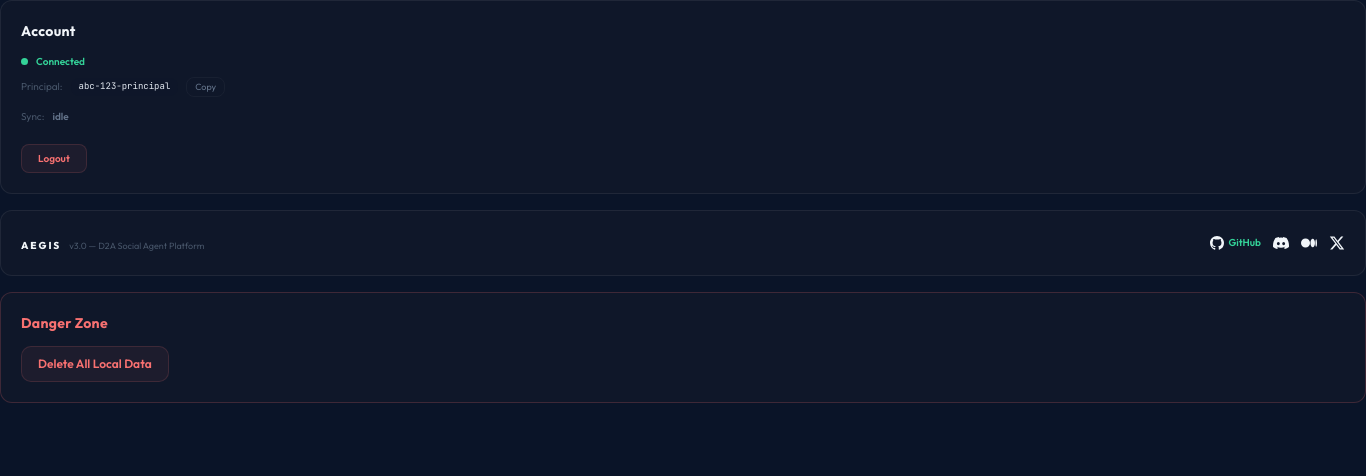
Scenario: AccountSection — Danger Zone delete flow › shows confirmation form when Delete button clicked
Click the button "Delete All Local Data". click: [95, 364]
box: 21,346 -> 169,382
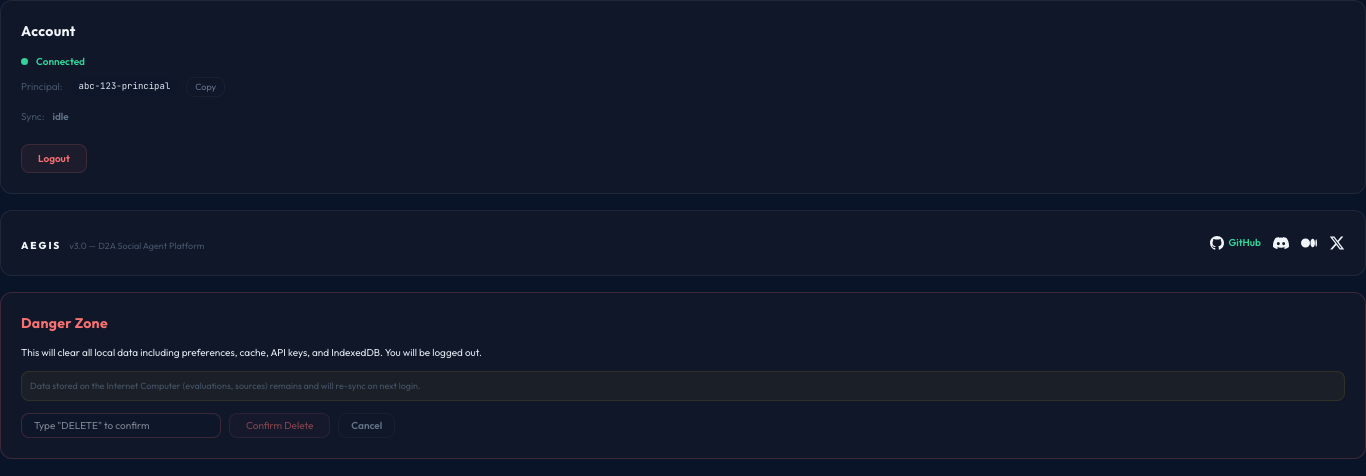
Now the field with placeholder "Type \"DELETE\" to confirm" is shown, box 21,412 -> 221,438
Now the button "Confirm Delete" is shown, box 229,412 -> 330,438
Now the button "Cancel" is shown, box 338,412 -> 395,438
